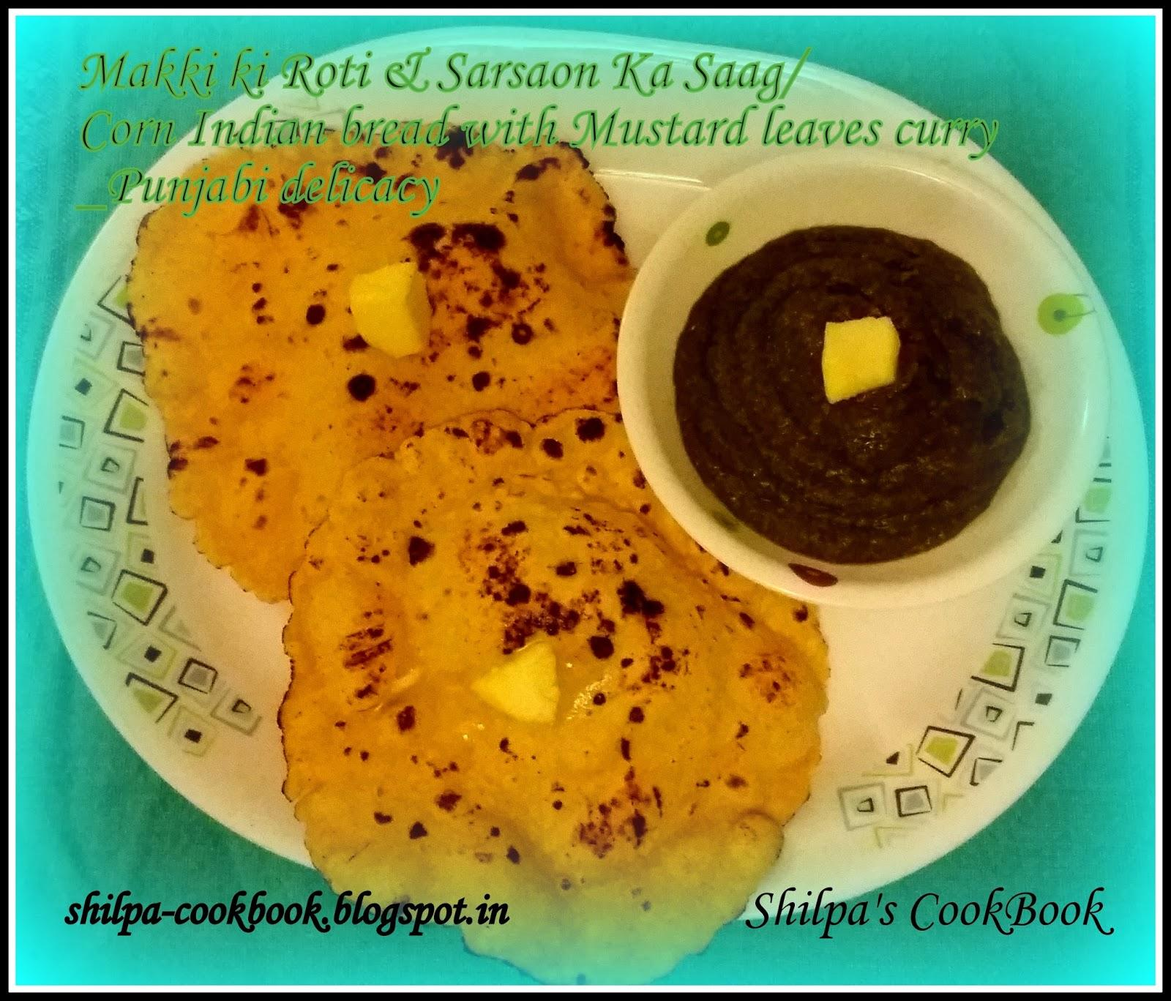saag: (673, 220, 1036, 557)
